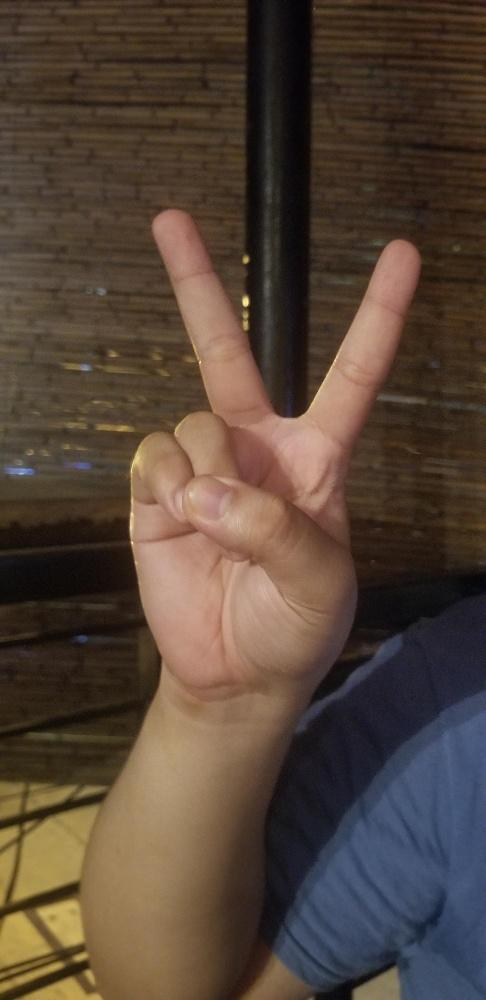v: (126, 206, 421, 681)
